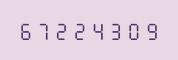four: (89, 20, 106, 40)
nine: (143, 20, 160, 40)
seven: (35, 20, 52, 40)
six: (17, 20, 34, 40)
three: (107, 20, 124, 40)
two: (53, 20, 70, 40), (71, 20, 88, 40)
zero: (125, 20, 142, 40)
